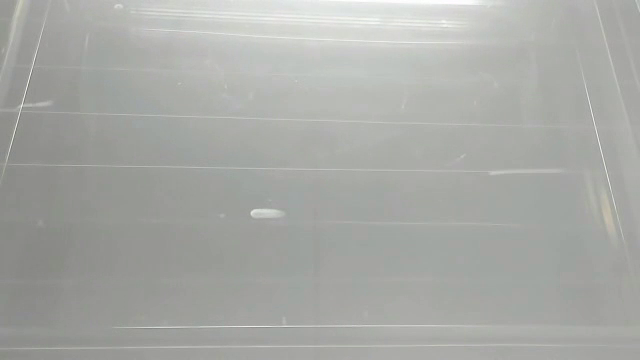alpha: (486, 165, 567, 182), (247, 205, 287, 223)
